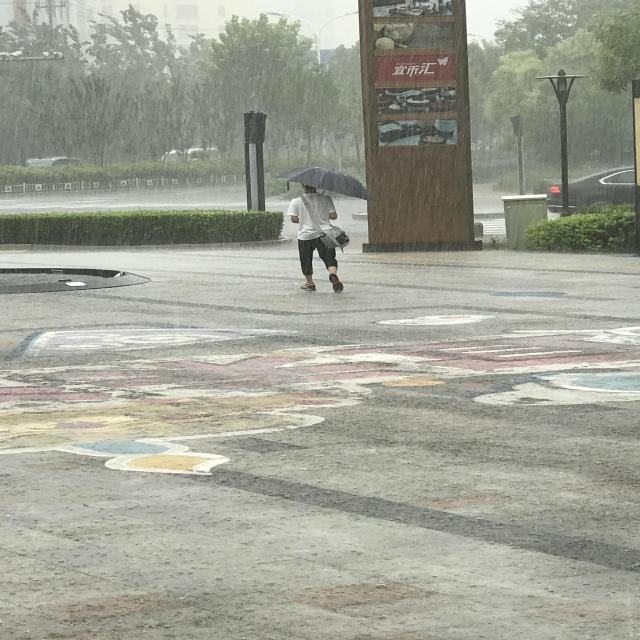car: (168, 0, 213, 93), (146, 419, 170, 476), (156, 556, 171, 618)
